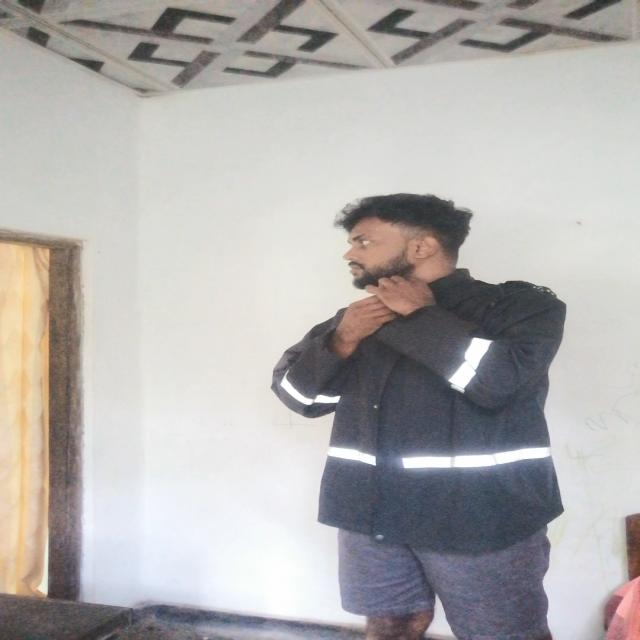Jacket_Wearer: (243, 273, 604, 541)
